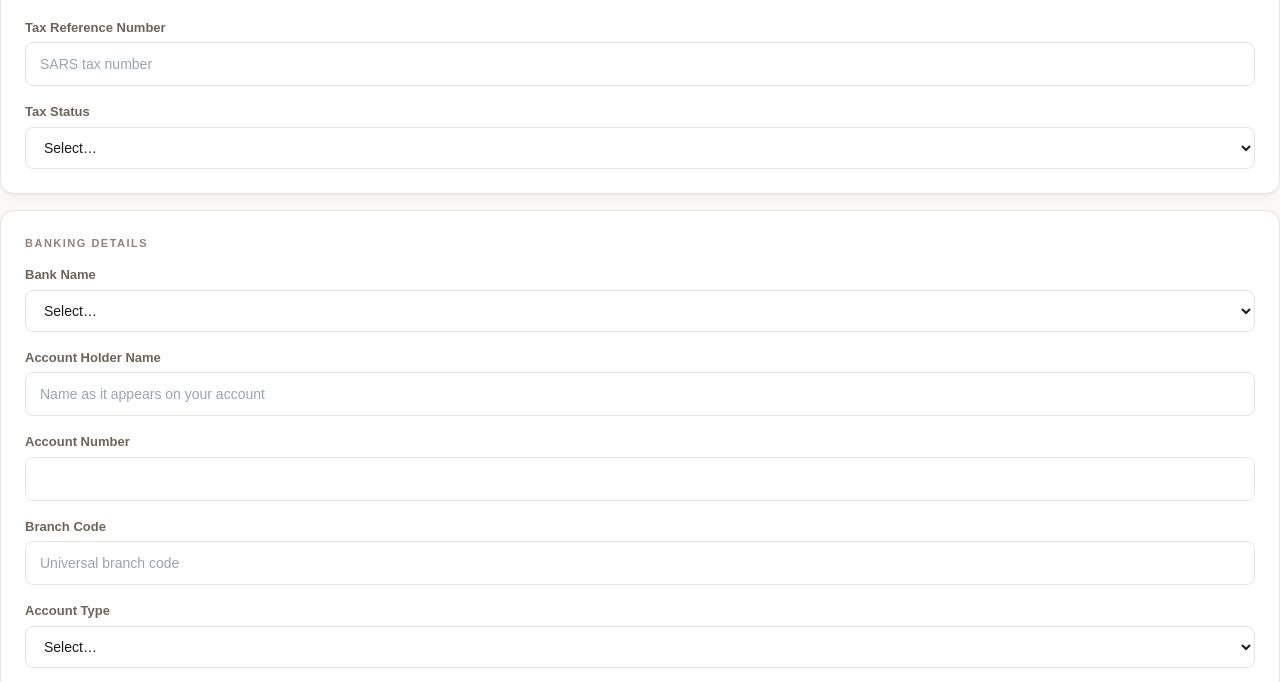
it: TaxForm › rejects a non-numeric account number
The image size is (1280, 682).
Type "1234567890" into the field labelled "Tax Reference Number" at (640, 64), box [25,42,1255,86]
Select "Capitec" in the dropdown labelled "Bank Name" at (640, 310), box [25,290,1255,332]
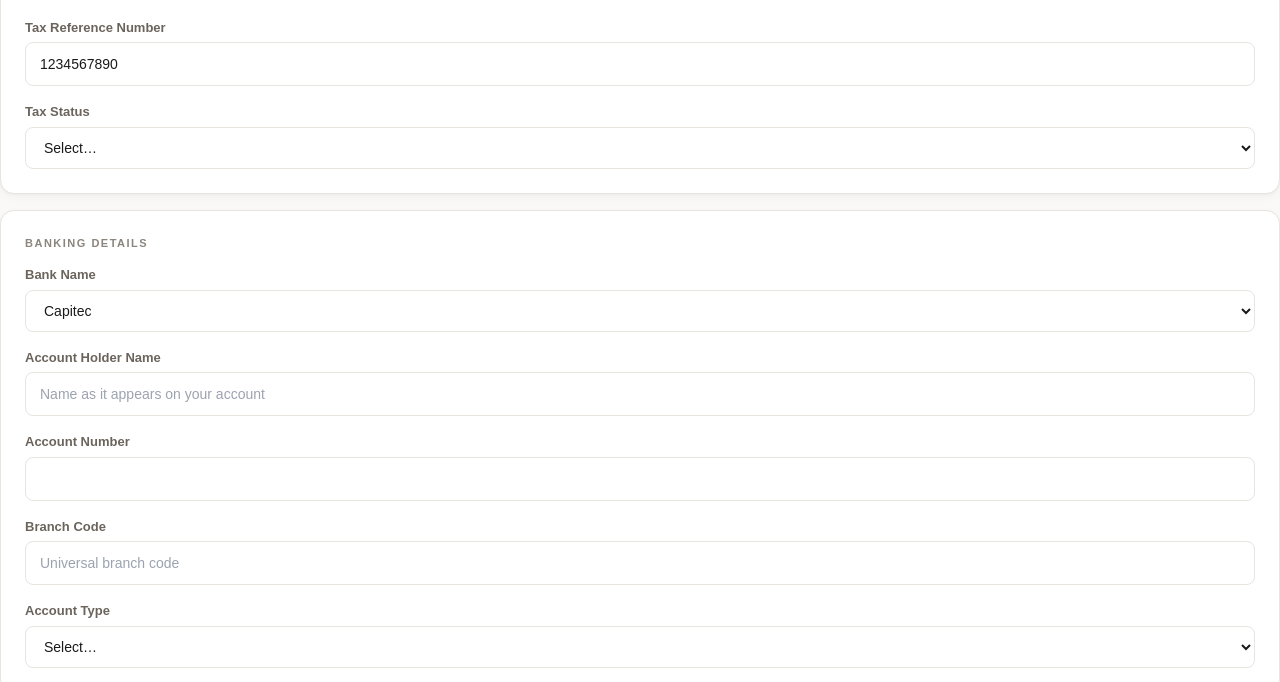
Type "T Mokoena" into the field labelled "Account Holder Name" at (640, 394), box [25,372,1255,416]
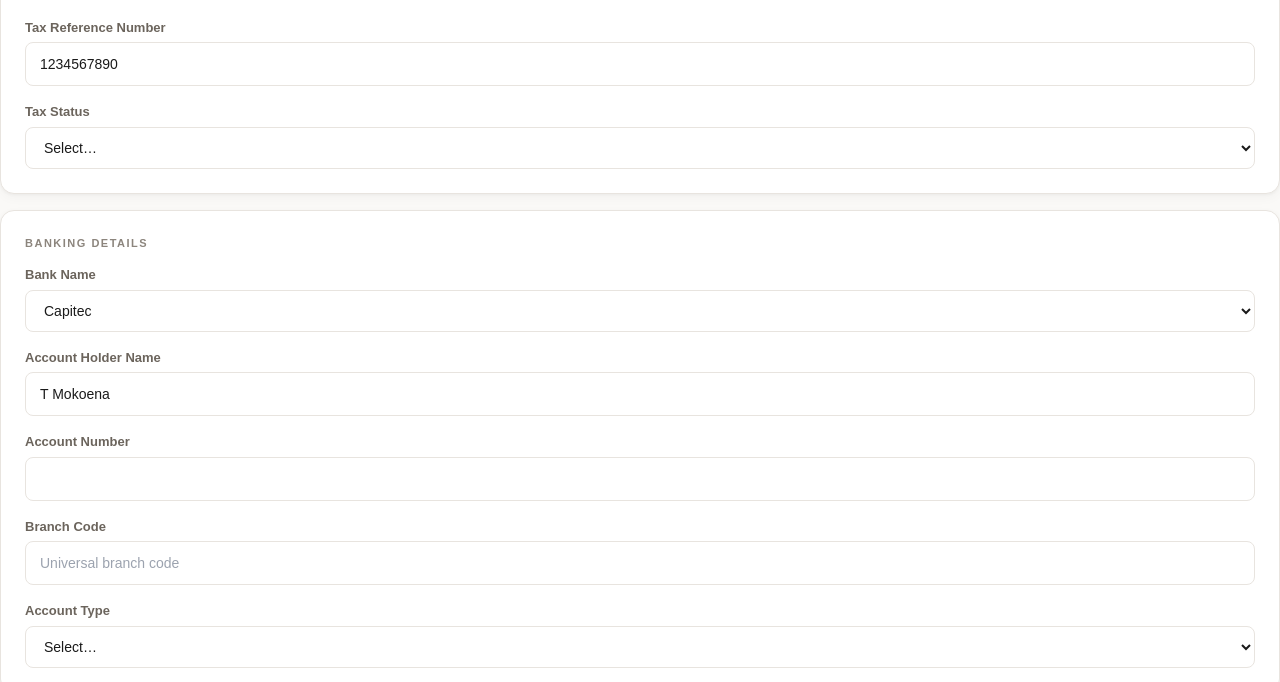
Type "ABC123" into the field labelled "Account Number" at (640, 478), box [25,456,1255,500]
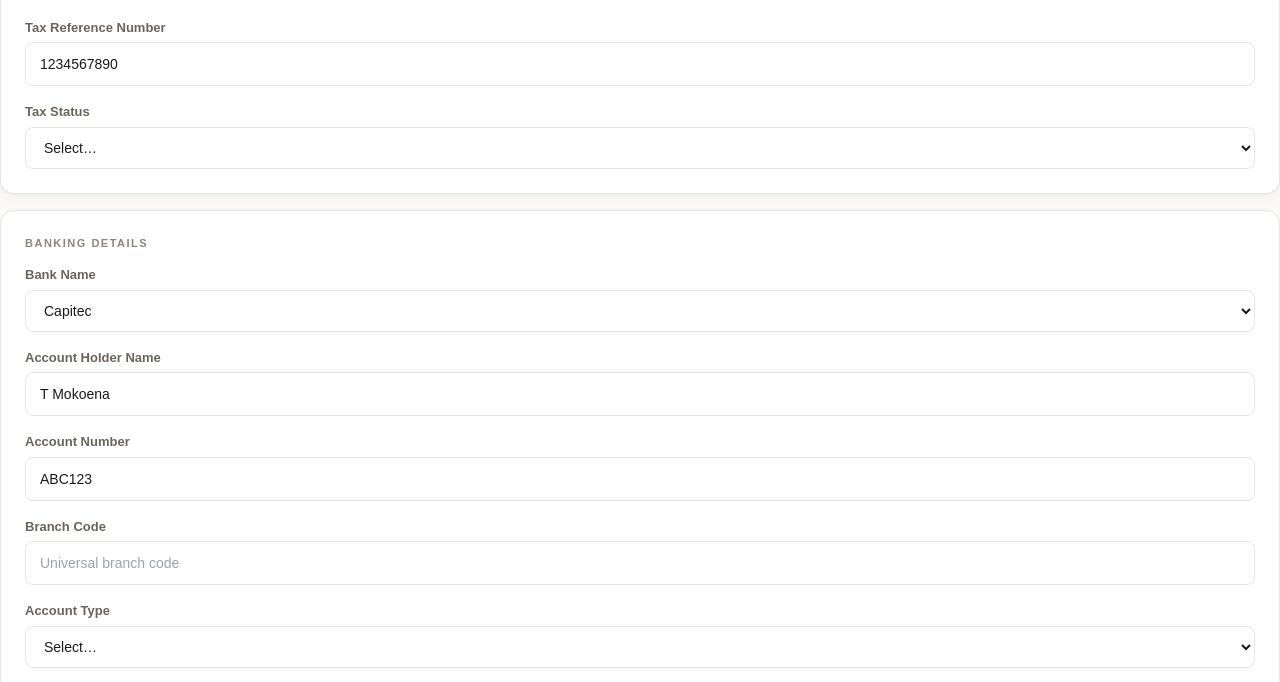
Select "Savings" in the dropdown labelled "Account Type" at (640, 646), box [25,626,1255,668]
(page scrolled)
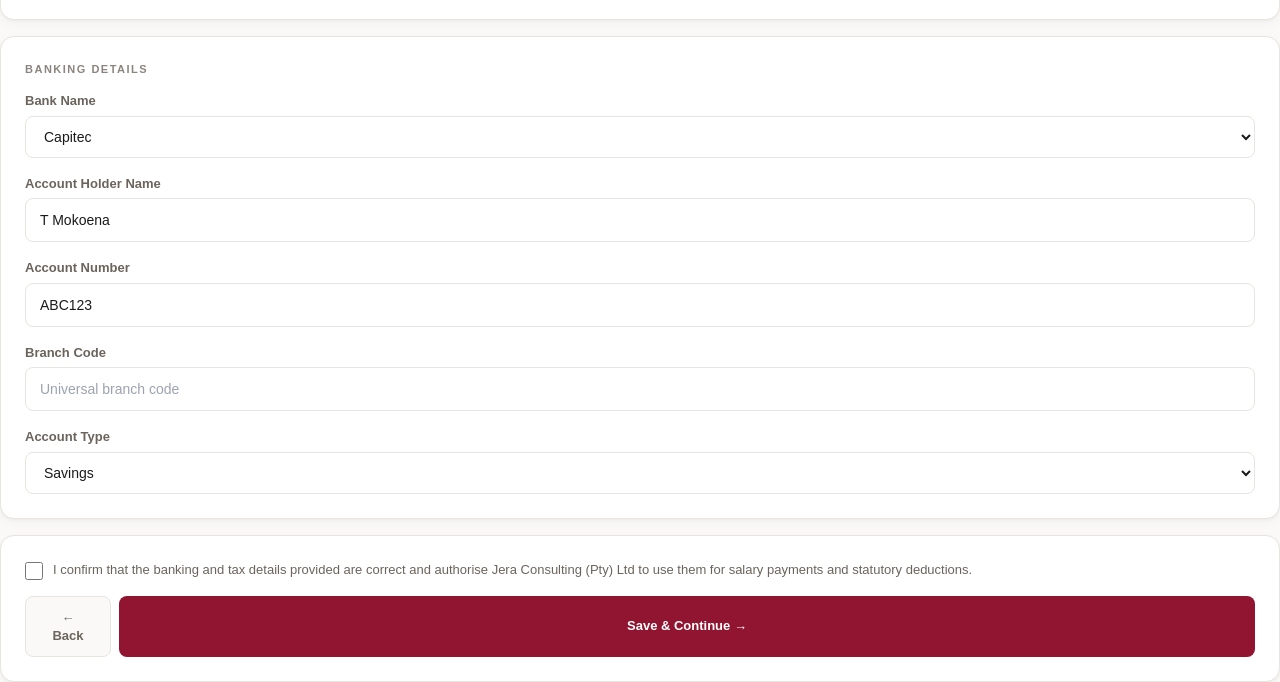
Click the checkbox labelled "I confirm that the banking and tax details" at (34, 570), box [25,562,43,580]
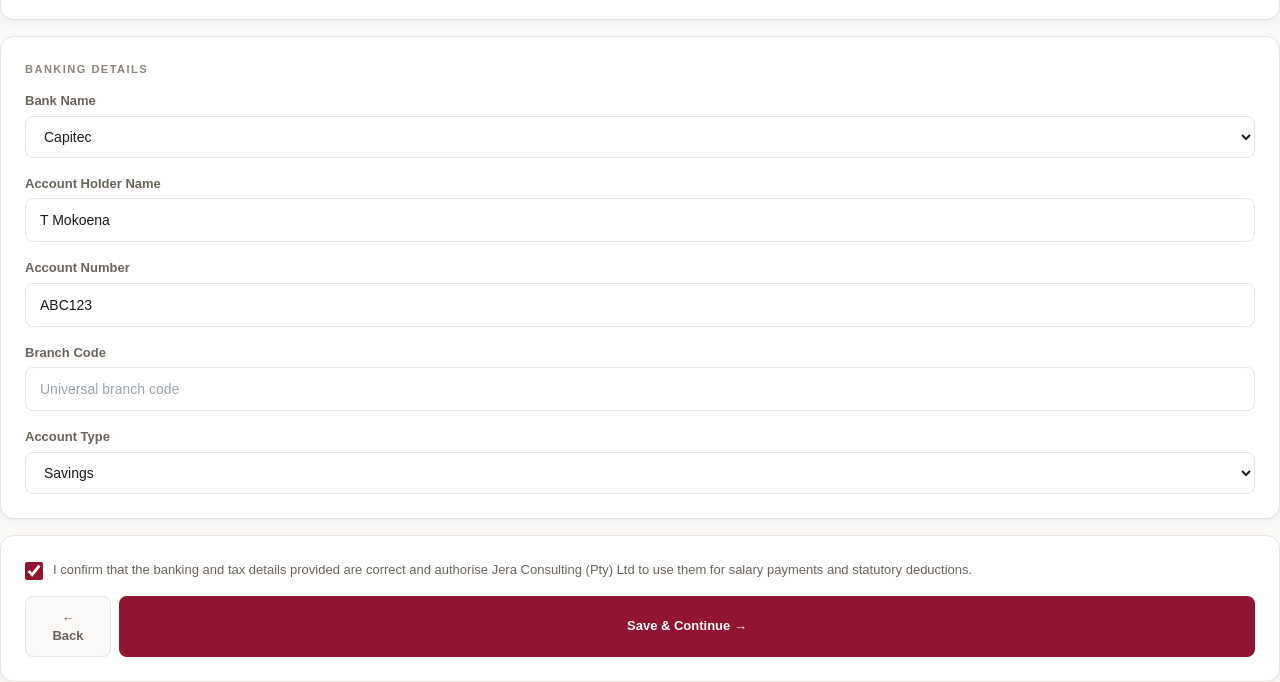
Click the button "Save & Continue →" at (687, 626), box [119,596,1255,656]
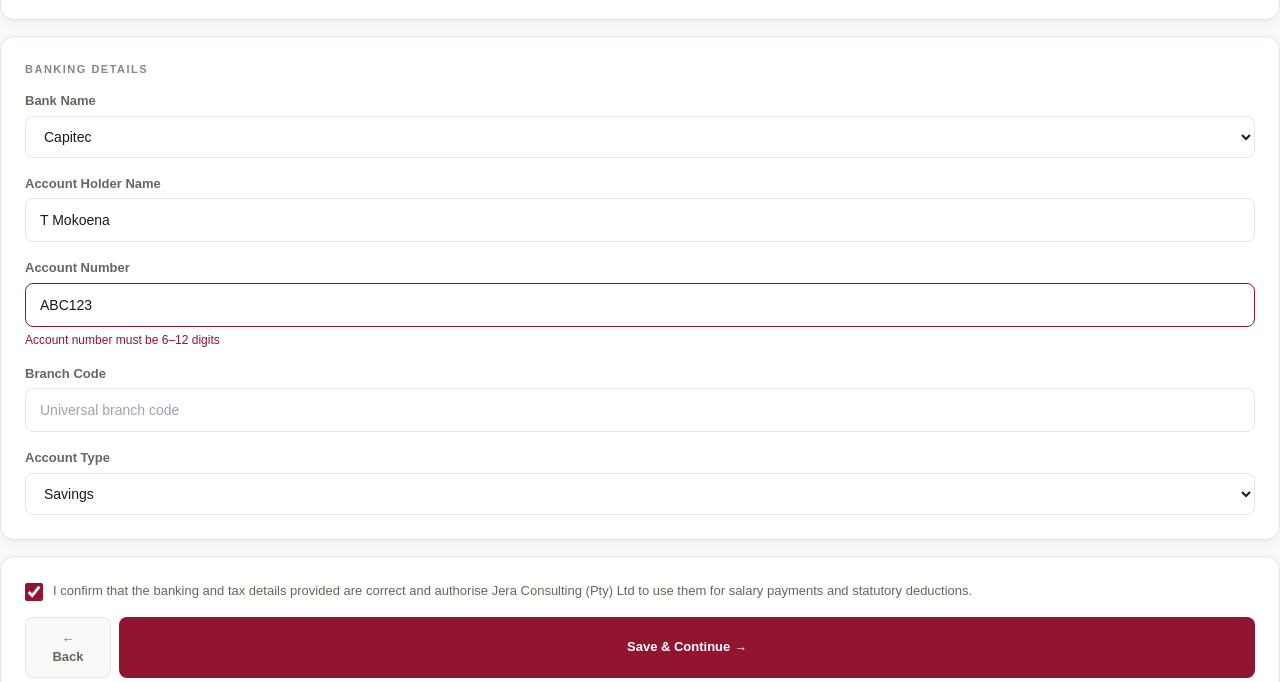
Now the text "Account number must be 6–12 digits" is shown, box [25,332,220,346]
